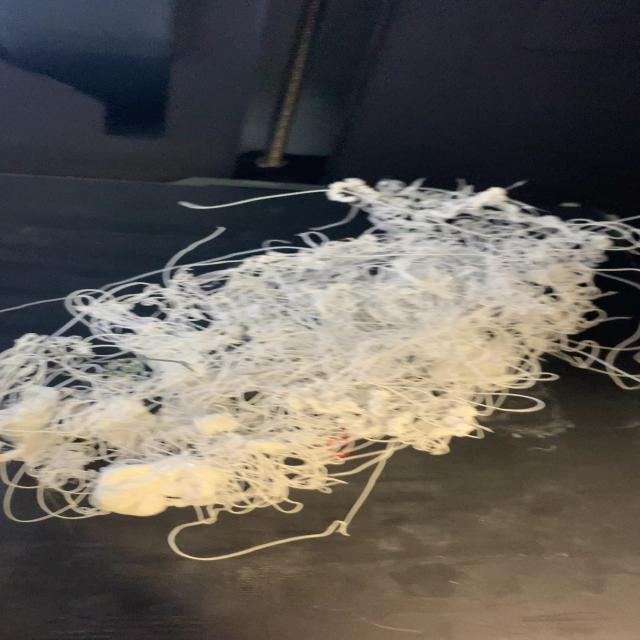spaghetti: (3, 174, 637, 562)
